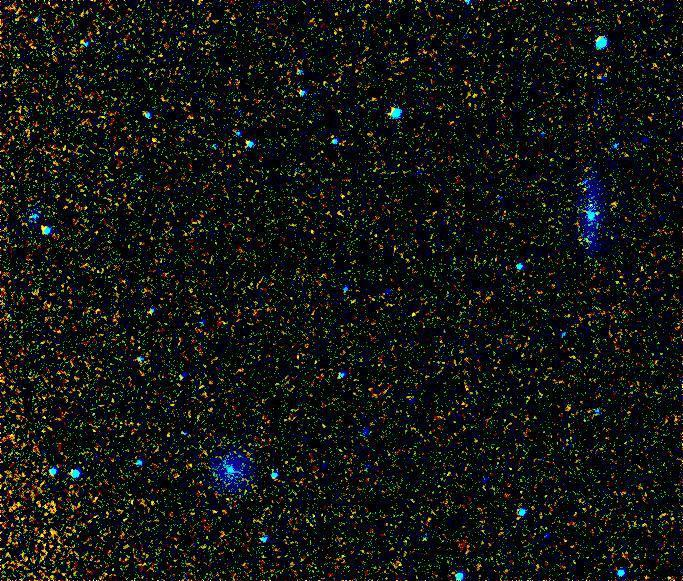star: (602, 185, 632, 215)
